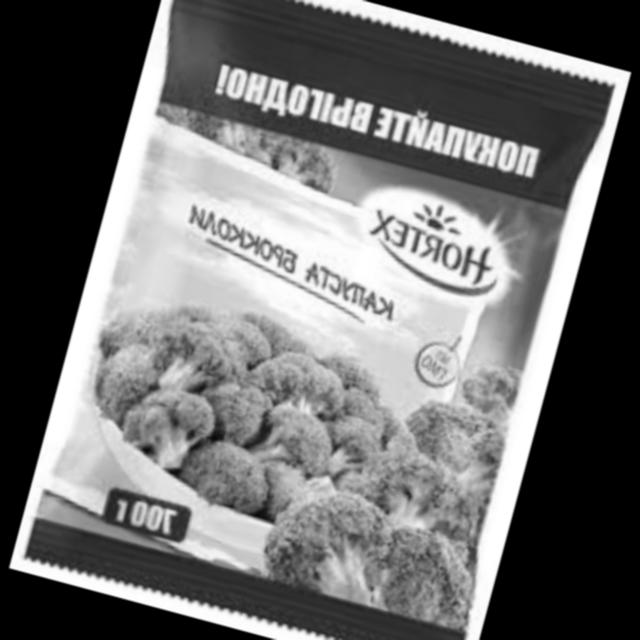bong cai xanh: (64, 288, 393, 548), (282, 343, 538, 640)
